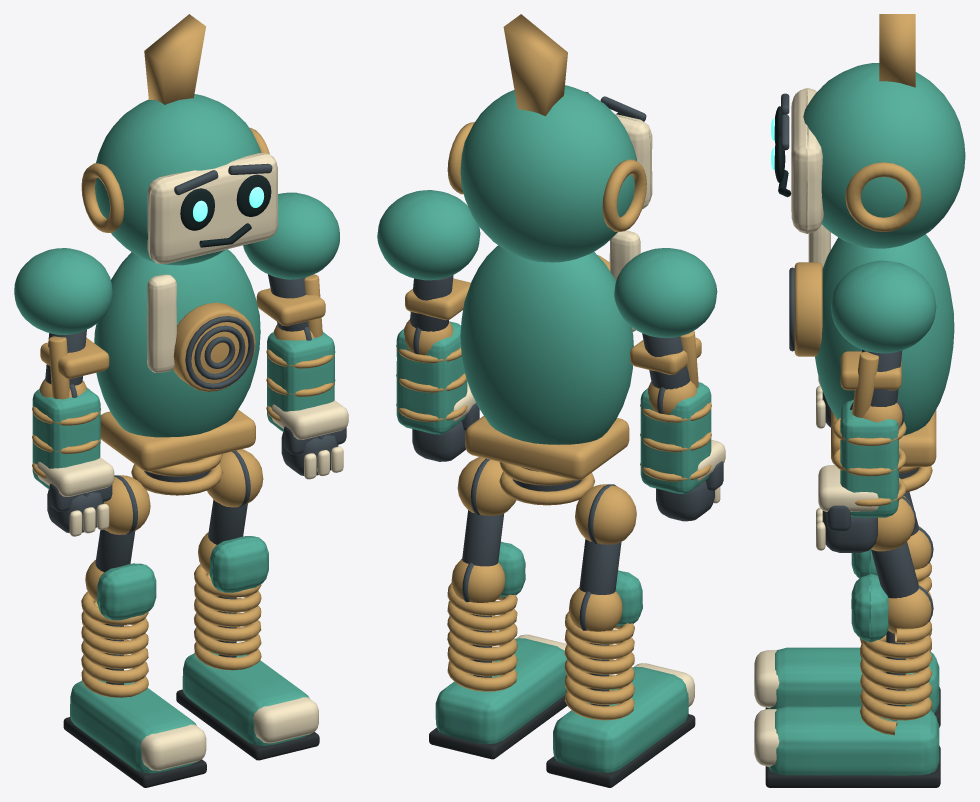
Rendered from spring_duelist.t2.glb.
3 renders of one model, left to right at view 1: azimuth 30°, elevation 25°; view 2: azimuth 150°, elevation 25°; view 3: azimuth 270°, elevation 25°, orthographic. The views are drawn at different scales.
Visible parts, largest first — view 1: slot_torso__clay_duelist_jade__clay, slot_head__clay_duelist_jade__clay, slot_torso__worn_warm_brass__protected, slot_legR__clay_duelist_jade__clay, slot_legL__clay_duelist_jade__clay, slot_head__clay_warm_ivory__clay, slot_legR__worn_warm_brass__protected, slot_legL__worn_warm_brass__protected, slot_armL__clay_duelist_jade__clay, slot_head__worn_warm_brass__protected, slot_armR__clay_duelist_jade__clay, armL_elbow__clay_duelist_jade__clay (+25 smaller); view 2: slot_torso__clay_duelist_jade__clay, slot_head__clay_duelist_jade__clay, slot_legL__worn_warm_brass__protected, slot_legR__worn_warm_brass__protected, slot_legL__clay_duelist_jade__clay, slot_legR__clay_duelist_jade__clay, slot_torso__worn_warm_brass__protected, slot_head__worn_warm_brass__protected, slot_armL__clay_duelist_jade__clay, slot_armR__clay_duelist_jade__clay, armL_elbow__clay_duelist_jade__clay, armR_elbow__clay_duelist_jade__clay (+14 smaller); view 3: slot_head__clay_duelist_jade__clay, slot_legR__clay_duelist_jade__clay, slot_torso__clay_duelist_jade__clay, slot_legR__worn_warm_brass__protected, slot_armR__clay_duelist_jade__clay, slot_legL__clay_duelist_jade__clay, slot_head__worn_warm_brass__protected, slot_torso__worn_warm_brass__protected, armR_elbow__clay_duelist_jade__clay, slot_head__clay_warm_ivory__clay, slot_armR__worn_warm_brass__protected, slot_legR__charcoal_rubber__protected (+13 smaller).
Part boxes in pixels (x1,y1,x2,y2): slot_torso__clay_duelist_jade__clay: (94, 249, 260, 437); slot_head__clay_duelist_jade__clay: (95, 94, 260, 265); slot_torso__worn_warm_brass__protected: (100, 302, 255, 495); slot_legR__clay_duelist_jade__clay: (182, 536, 309, 745); slot_legL__clay_duelist_jade__clay: (70, 563, 196, 773); slot_head__clay_warm_ivory__clay: (147, 153, 278, 263); slot_legR__worn_warm_brass__protected: (194, 449, 263, 670); slot_legL__worn_warm_brass__protected: (81, 475, 150, 697); slot_armL__clay_duelist_jade__clay: (14, 248, 112, 334); slot_head__worn_warm_brass__protected: (81, 14, 269, 232); slot_armR__clay_duelist_jade__clay: (243, 192, 339, 279); armL_elbow__clay_duelist_jade__clay: (32, 387, 100, 489); slot_torso__clay_duelist_jade__clay: (460, 245, 633, 444); slot_head__clay_duelist_jade__clay: (460, 85, 636, 262); slot_legL__worn_warm_brass__protected: (564, 484, 636, 720); slot_legR__worn_warm_brass__protected: (447, 457, 517, 691); slot_legL__clay_duelist_jade__clay: (553, 570, 688, 772); slot_legR__clay_duelist_jade__clay: (435, 541, 567, 744); slot_torso__worn_warm_brass__protected: (465, 255, 629, 505); slot_head__worn_warm_brass__protected: (447, 14, 646, 231); slot_armL__clay_duelist_jade__clay: (614, 248, 717, 337); slot_armR__clay_duelist_jade__clay: (377, 190, 480, 280); armL_elbow__clay_duelist_jade__clay: (640, 382, 711, 493); armR_elbow__clay_duelist_jade__clay: (396, 321, 467, 434); slot_head__clay_duelist_jade__clay: (803, 63, 965, 248); slot_legR__clay_duelist_jade__clay: (768, 574, 939, 775); slot_torso__clay_duelist_jade__clay: (815, 234, 954, 435); slot_legR__worn_warm_brass__protected: (859, 496, 932, 735); slot_armR__clay_duelist_jade__clay: (831, 260, 936, 353); slot_legL__clay_duelist_jade__clay: (768, 549, 939, 712); slot_head__worn_warm_brass__protected: (845, 14, 921, 232); slot_torso__worn_warm_brass__protected: (794, 262, 936, 492); armR_elbow__clay_duelist_jade__clay: (840, 399, 898, 517); slot_head__clay_warm_ivory__clay: (791, 88, 823, 233); slot_armR__worn_warm_brass__protected: (840, 351, 902, 428); slot_legR__charcoal_rubber__protected: (765, 746, 940, 787).
Size of the model in its own units: 1.25 by 2.66 by 0.684.
